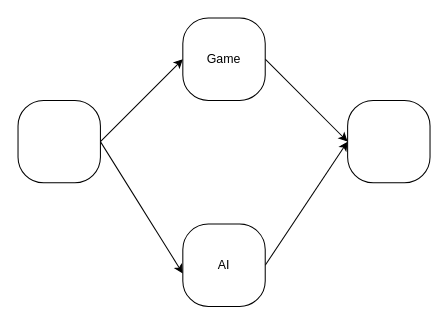
The diagram is 448 pixels wide and 324 high, and some of its shapes have lost their labels. Here are the shapes that lost their labels. From the top down, the centre of each, then its label:
(x=58, y=141): Play
(x=388, y=141): DB
